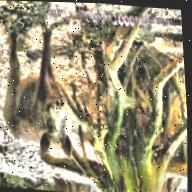boar: (0, 25, 79, 160)
